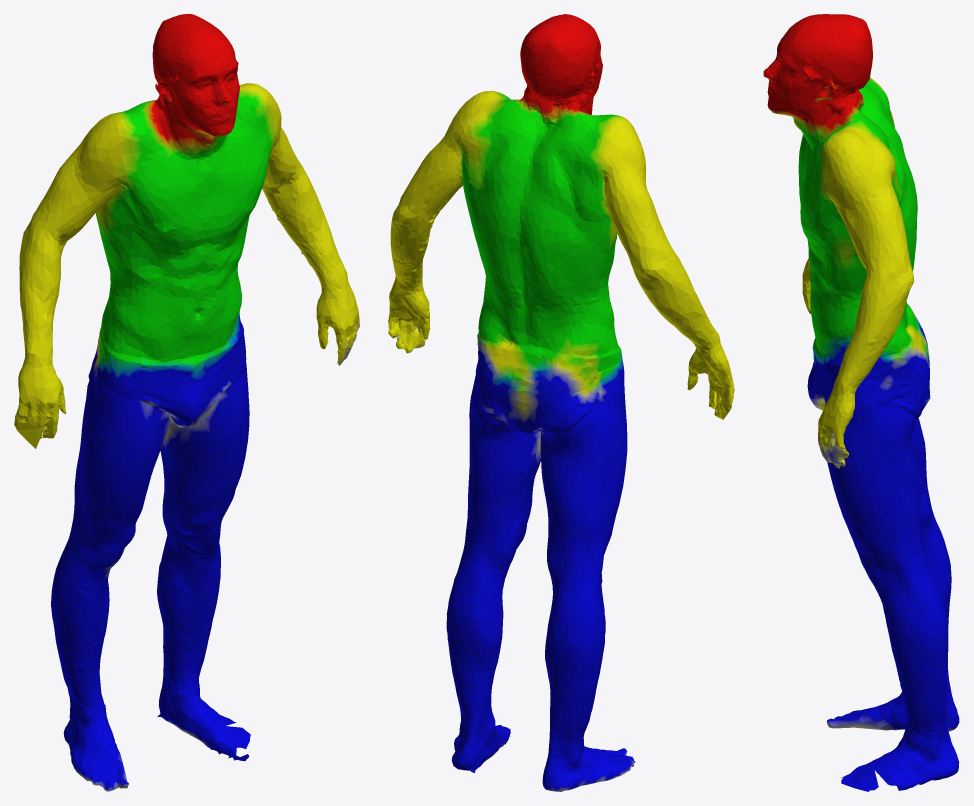
3 renders of one model, left to right at view 1: azimuth 30°, elevation 25°; view 2: azimuth 150°, elevation 25°; view 3: azimuth 270°, elevation 25°, orthographic. The views are drawn at different scales.
Parts seen in each view (by area): view 1: 184.obj; view 2: 184.obj; view 3: 184.obj.
Boxes of the visible parts, <box> form: 184.obj: <box>14,14,359,791</box>; 184.obj: <box>388,14,734,791</box>; 184.obj: <box>763,14,959,791</box>.
Bounding box in the file's own units: 0.8982 × 1.84 × 0.4383.
